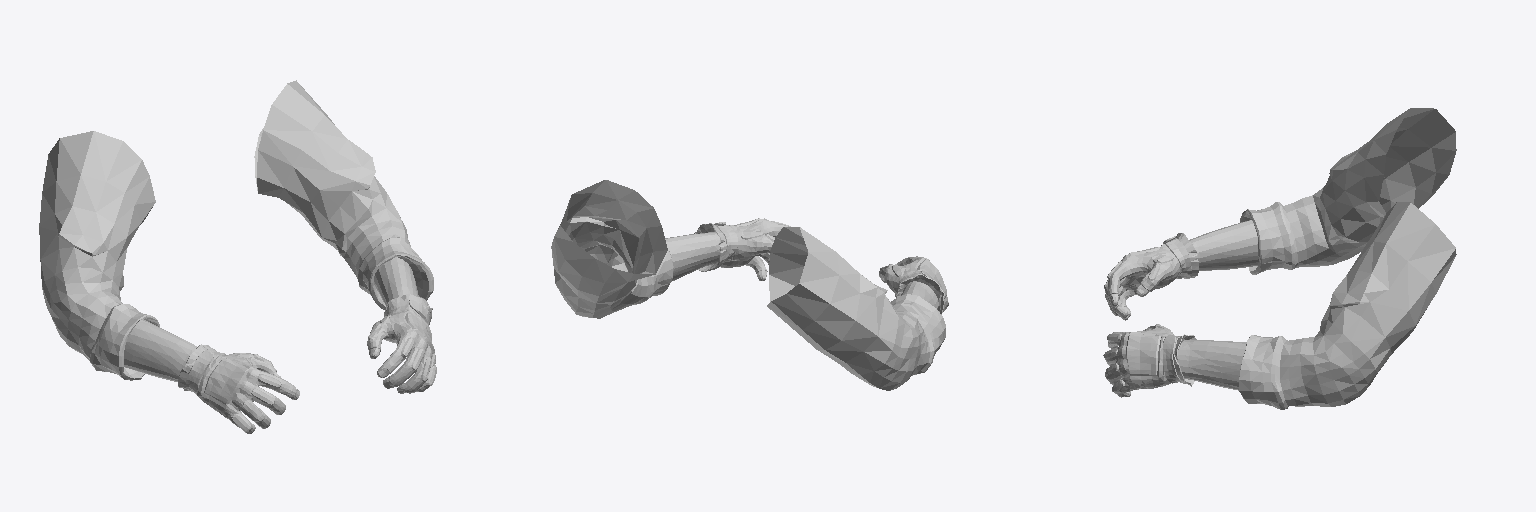
Rendered from Arms_Pack.obj.
3 renders of one model, left to right at view 1: azimuth 30°, elevation 25°; view 2: azimuth 150°, elevation 25°; view 3: azimuth 270°, elevation 25°, orthographic.
Parts seen in each view (by area): view 1: Arm03; view 2: Arm03; view 3: Arm03.
Part boxes in pixels (left/top/right/bottom): Arm03: left=39, top=80, right=436, bottom=433; Arm03: left=551, top=180, right=948, bottom=390; Arm03: left=1103, top=108, right=1456, bottom=409.
Size of the model in its own units: 0.5333 by 0.3002 by 0.4759.